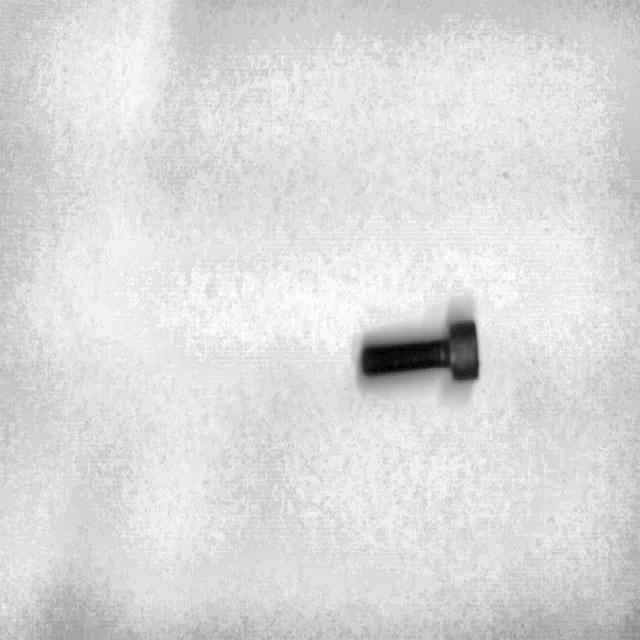Socket head cap screw: (360, 316, 480, 383)
